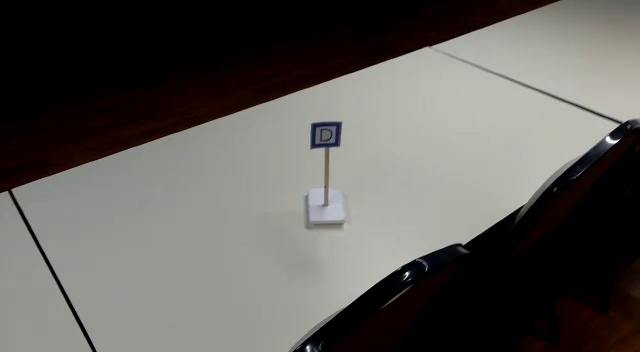durak: (312, 122, 340, 147)
